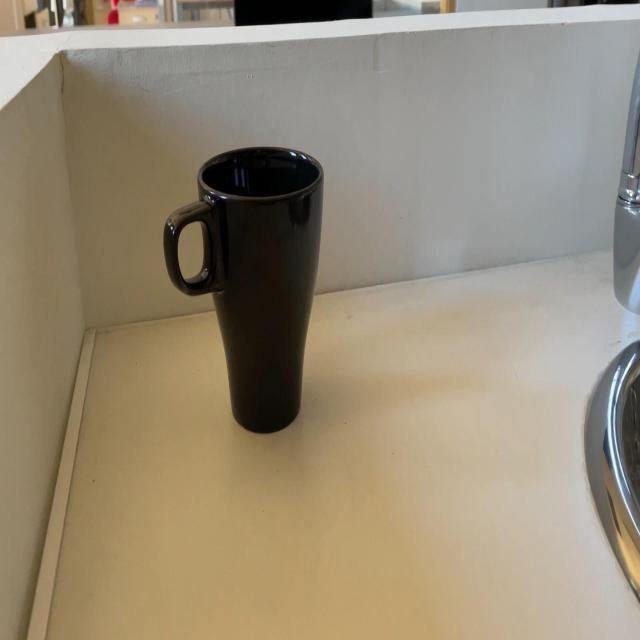cup: (157, 140, 333, 431)
